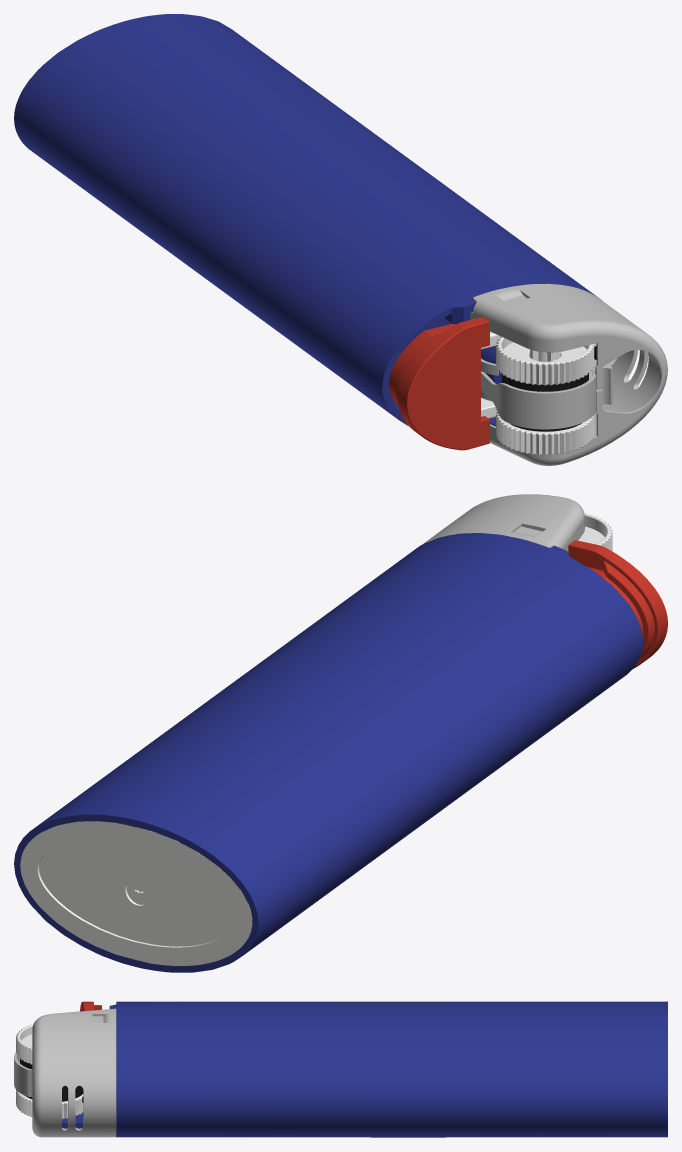
File: uploads_files_2836528_Blue+Bic+Lighter.fbx
3 views of the same model, one above another, from view 1: azimuth 30°, elevation 25°; view 2: azimuth 150°, elevation 25°; view 3: azimuth 270°, elevation 25° (orthographic). The views are drawn at different scales.
Parts seen in each view (by area): view 1: Body1, Body31, Body11, Body9, Body37; view 2: Body1, Body25, Body31, Body11, Body9; view 3: Body1, Body31, Body9, Body37.
Boxes of the visible parts, bbox=[...] form: Body1: bbox=[14, 14, 602, 426]; Body31: bbox=[470, 283, 667, 465]; Body11: bbox=[389, 317, 489, 450]; Body9: bbox=[496, 336, 594, 455]; Body37: bbox=[481, 358, 612, 429]; Body1: bbox=[14, 533, 642, 972]; Body25: bbox=[20, 821, 252, 965]; Body31: bbox=[422, 494, 584, 552]; Body11: bbox=[568, 540, 667, 668]; Body9: bbox=[578, 513, 612, 551]; Body1: bbox=[62, 1001, 667, 1137]; Body31: bbox=[32, 1008, 116, 1137]; Body9: bbox=[16, 1024, 83, 1119]; Body37: bbox=[14, 1052, 32, 1096].
Size of the model in its own units: 0.9925 by 0.5702 by 3.2.
